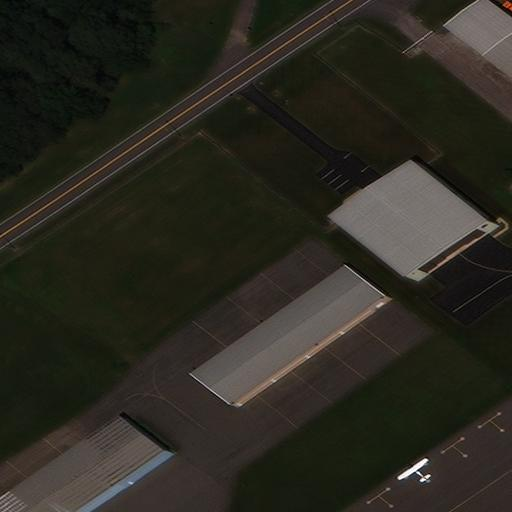Small Civil Transport: (396, 457, 427, 480)
